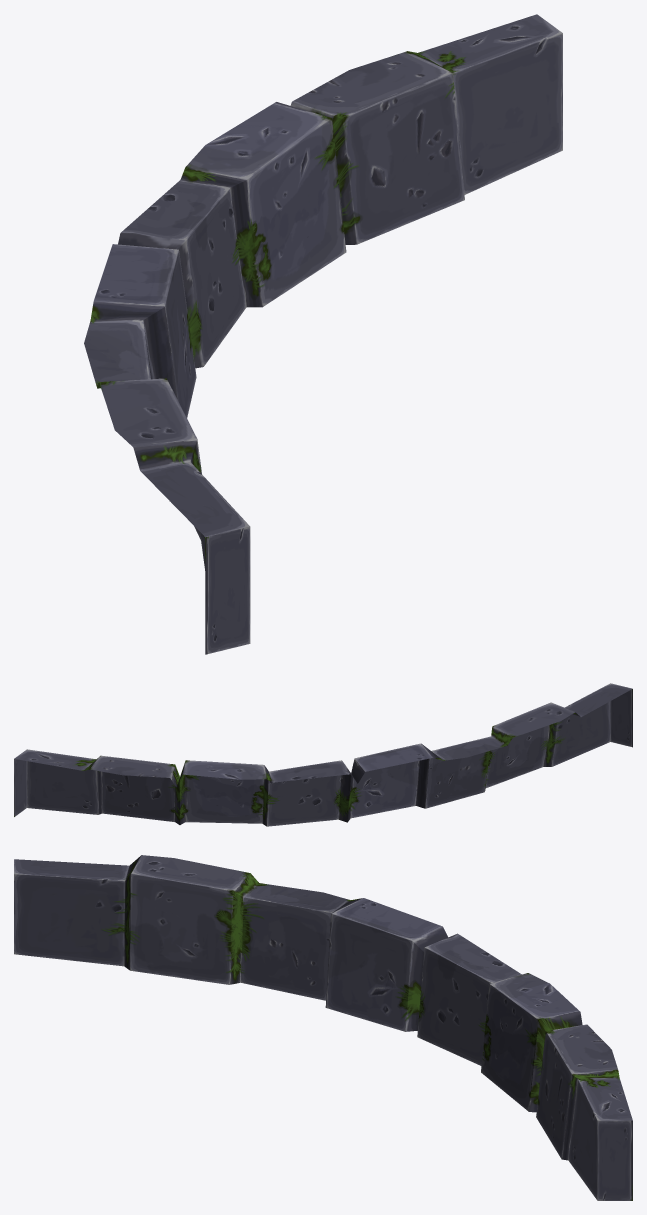
The model's file is MOD_WallTrim_01_E_concave.fbx.
3 renders of one model, top to bottom at view 1: azimuth 30°, elevation 25°; view 2: azimuth 150°, elevation 25°; view 3: azimuth 270°, elevation 25°, orthographic. The views are drawn at different scales.
Parts seen in each view (by area): view 1: MOD_WallTrim_01_E_concave; view 2: MOD_WallTrim_01_E_concave; view 3: MOD_WallTrim_01_E_concave.
Part boxes in pixels (<box>): MOD_WallTrim_01_E_concave: <box>84,14,562,654</box>; MOD_WallTrim_01_E_concave: <box>14,683,632,826</box>; MOD_WallTrim_01_E_concave: <box>14,855,632,1200</box>.
Size of what is drawn, in the model's own units: 350 by 57.03 by 350.
